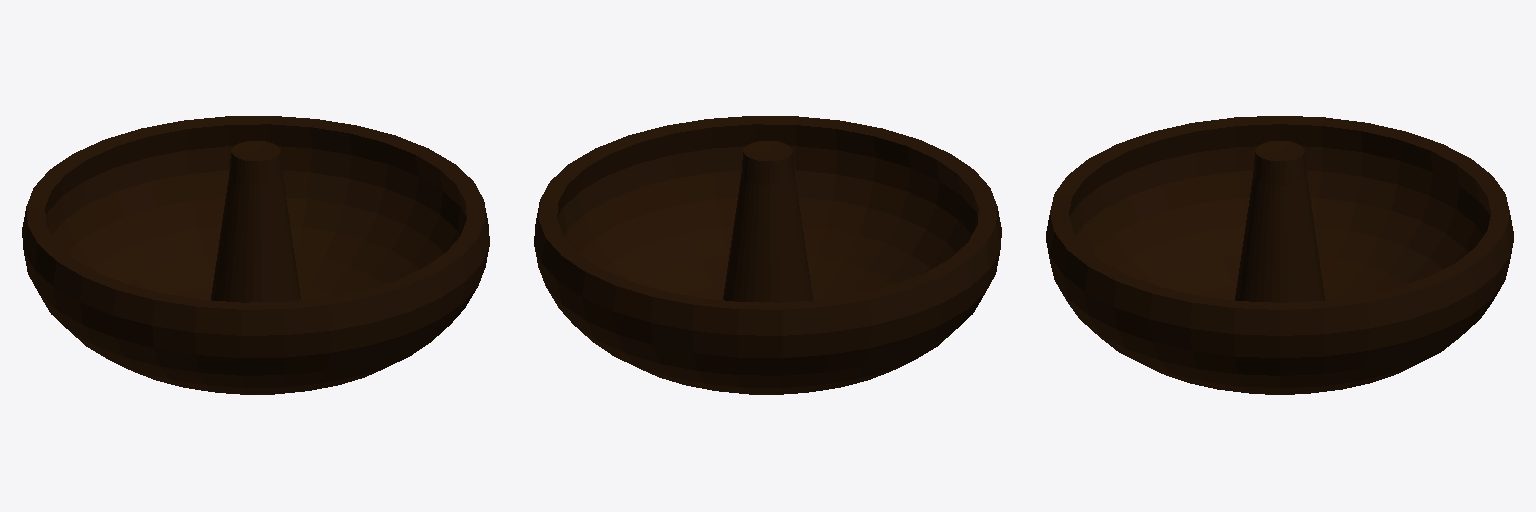
The model's file is bowlAlmost.obj.
3 renders of one model, left to right at view 1: azimuth 30°, elevation 25°; view 2: azimuth 150°, elevation 25°; view 3: azimuth 270°, elevation 25°, orthographic.
Visible parts, largest first — view 1: Sphere; view 2: Sphere; view 3: Sphere.
Part boxes in pixels (x1,y1,x2,y2): Sphere: (22,116,489,394); Sphere: (534,116,1001,394); Sphere: (1046,116,1513,394).
Bounding box in the file's own units: 5.18 × 2.56 × 5.18.